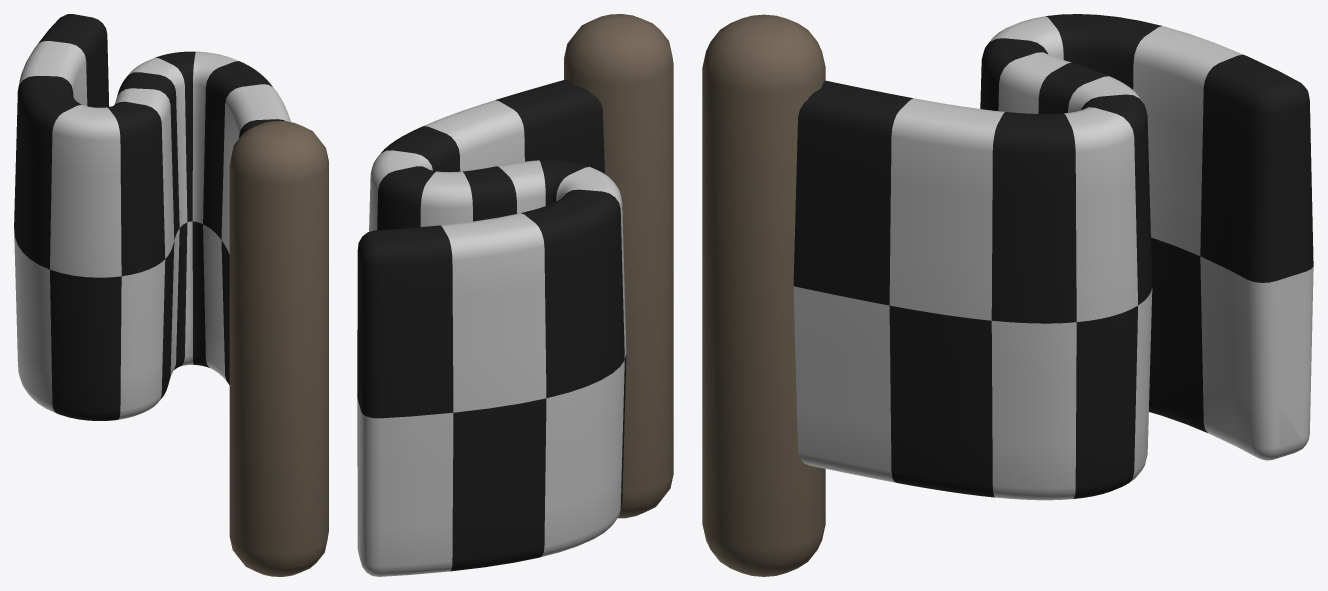
The picture shows the model from 3 angles, left to right: view 1: azimuth 30°, elevation 25°; view 2: azimuth 150°, elevation 25°; view 3: azimuth 270°, elevation 25°; orthographic projection. The views are drawn at different scales.
Visible parts, largest first — view 1: 旗子; view 2: 旗子; view 3: 旗子.
Boxes of the visible parts, x1,y1,x2,y2 form: 旗子: [14, 14, 328, 576]; 旗子: [357, 14, 673, 576]; 旗子: [702, 14, 1313, 576].
Size of the model in its own units: 1.41 by 2.69 by 2.75.
